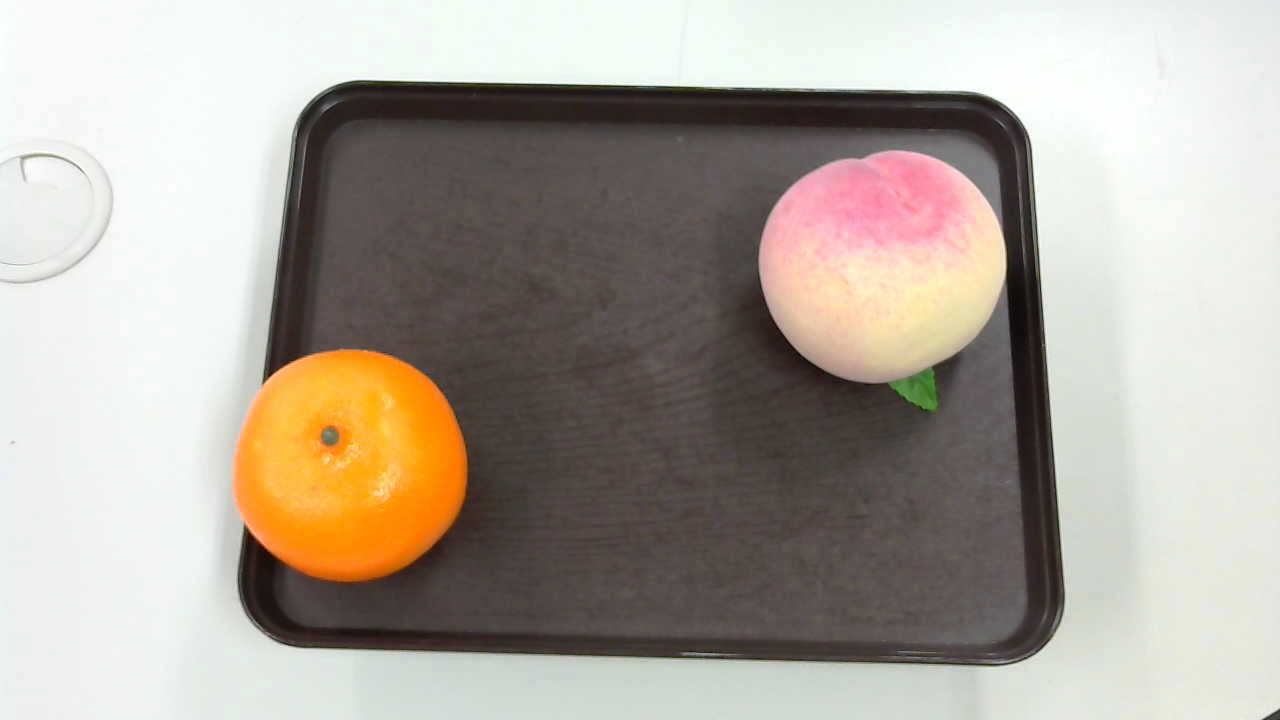orange: (230, 344, 470, 583)
peach: (751, 148, 1007, 418)
